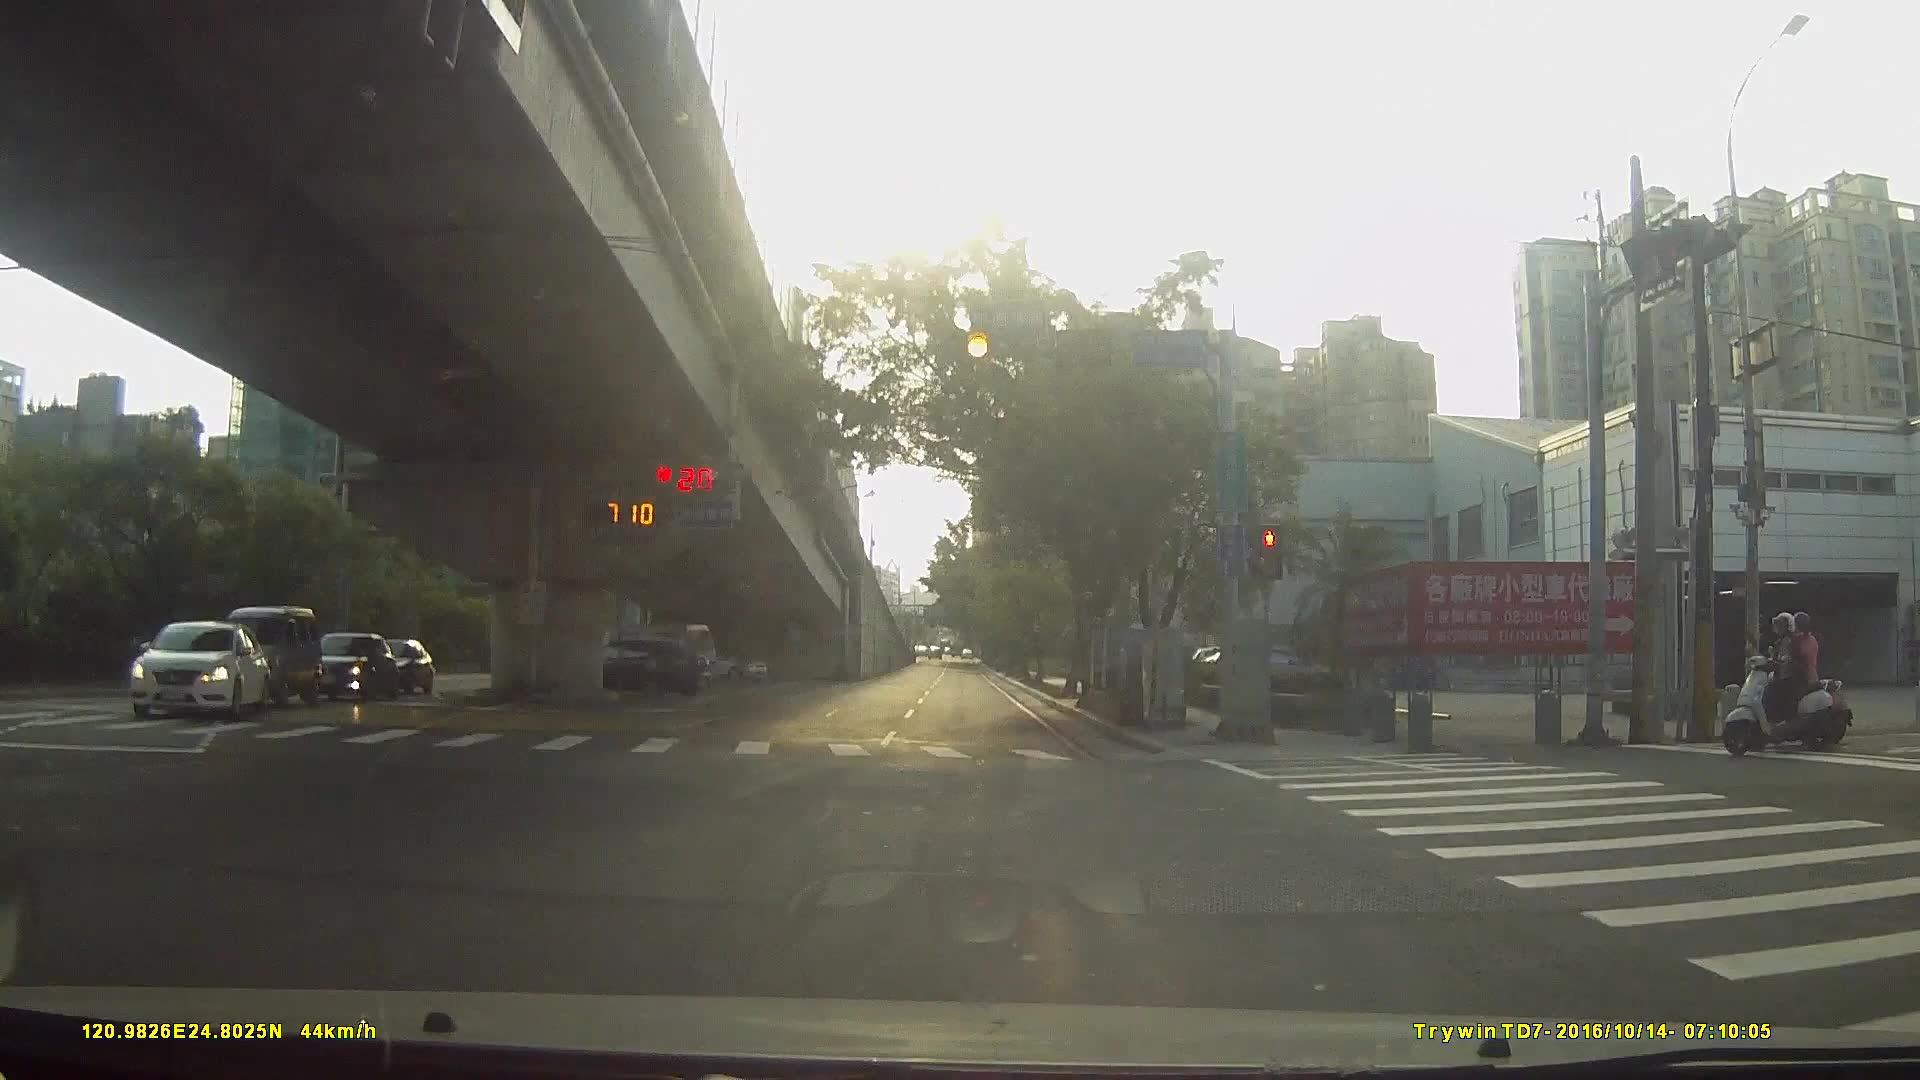rider: (1721, 614, 1846, 758)
vehicle: (115, 615, 276, 720), (216, 603, 314, 707), (557, 635, 708, 701), (296, 631, 397, 704), (351, 637, 430, 694), (671, 644, 767, 688)
